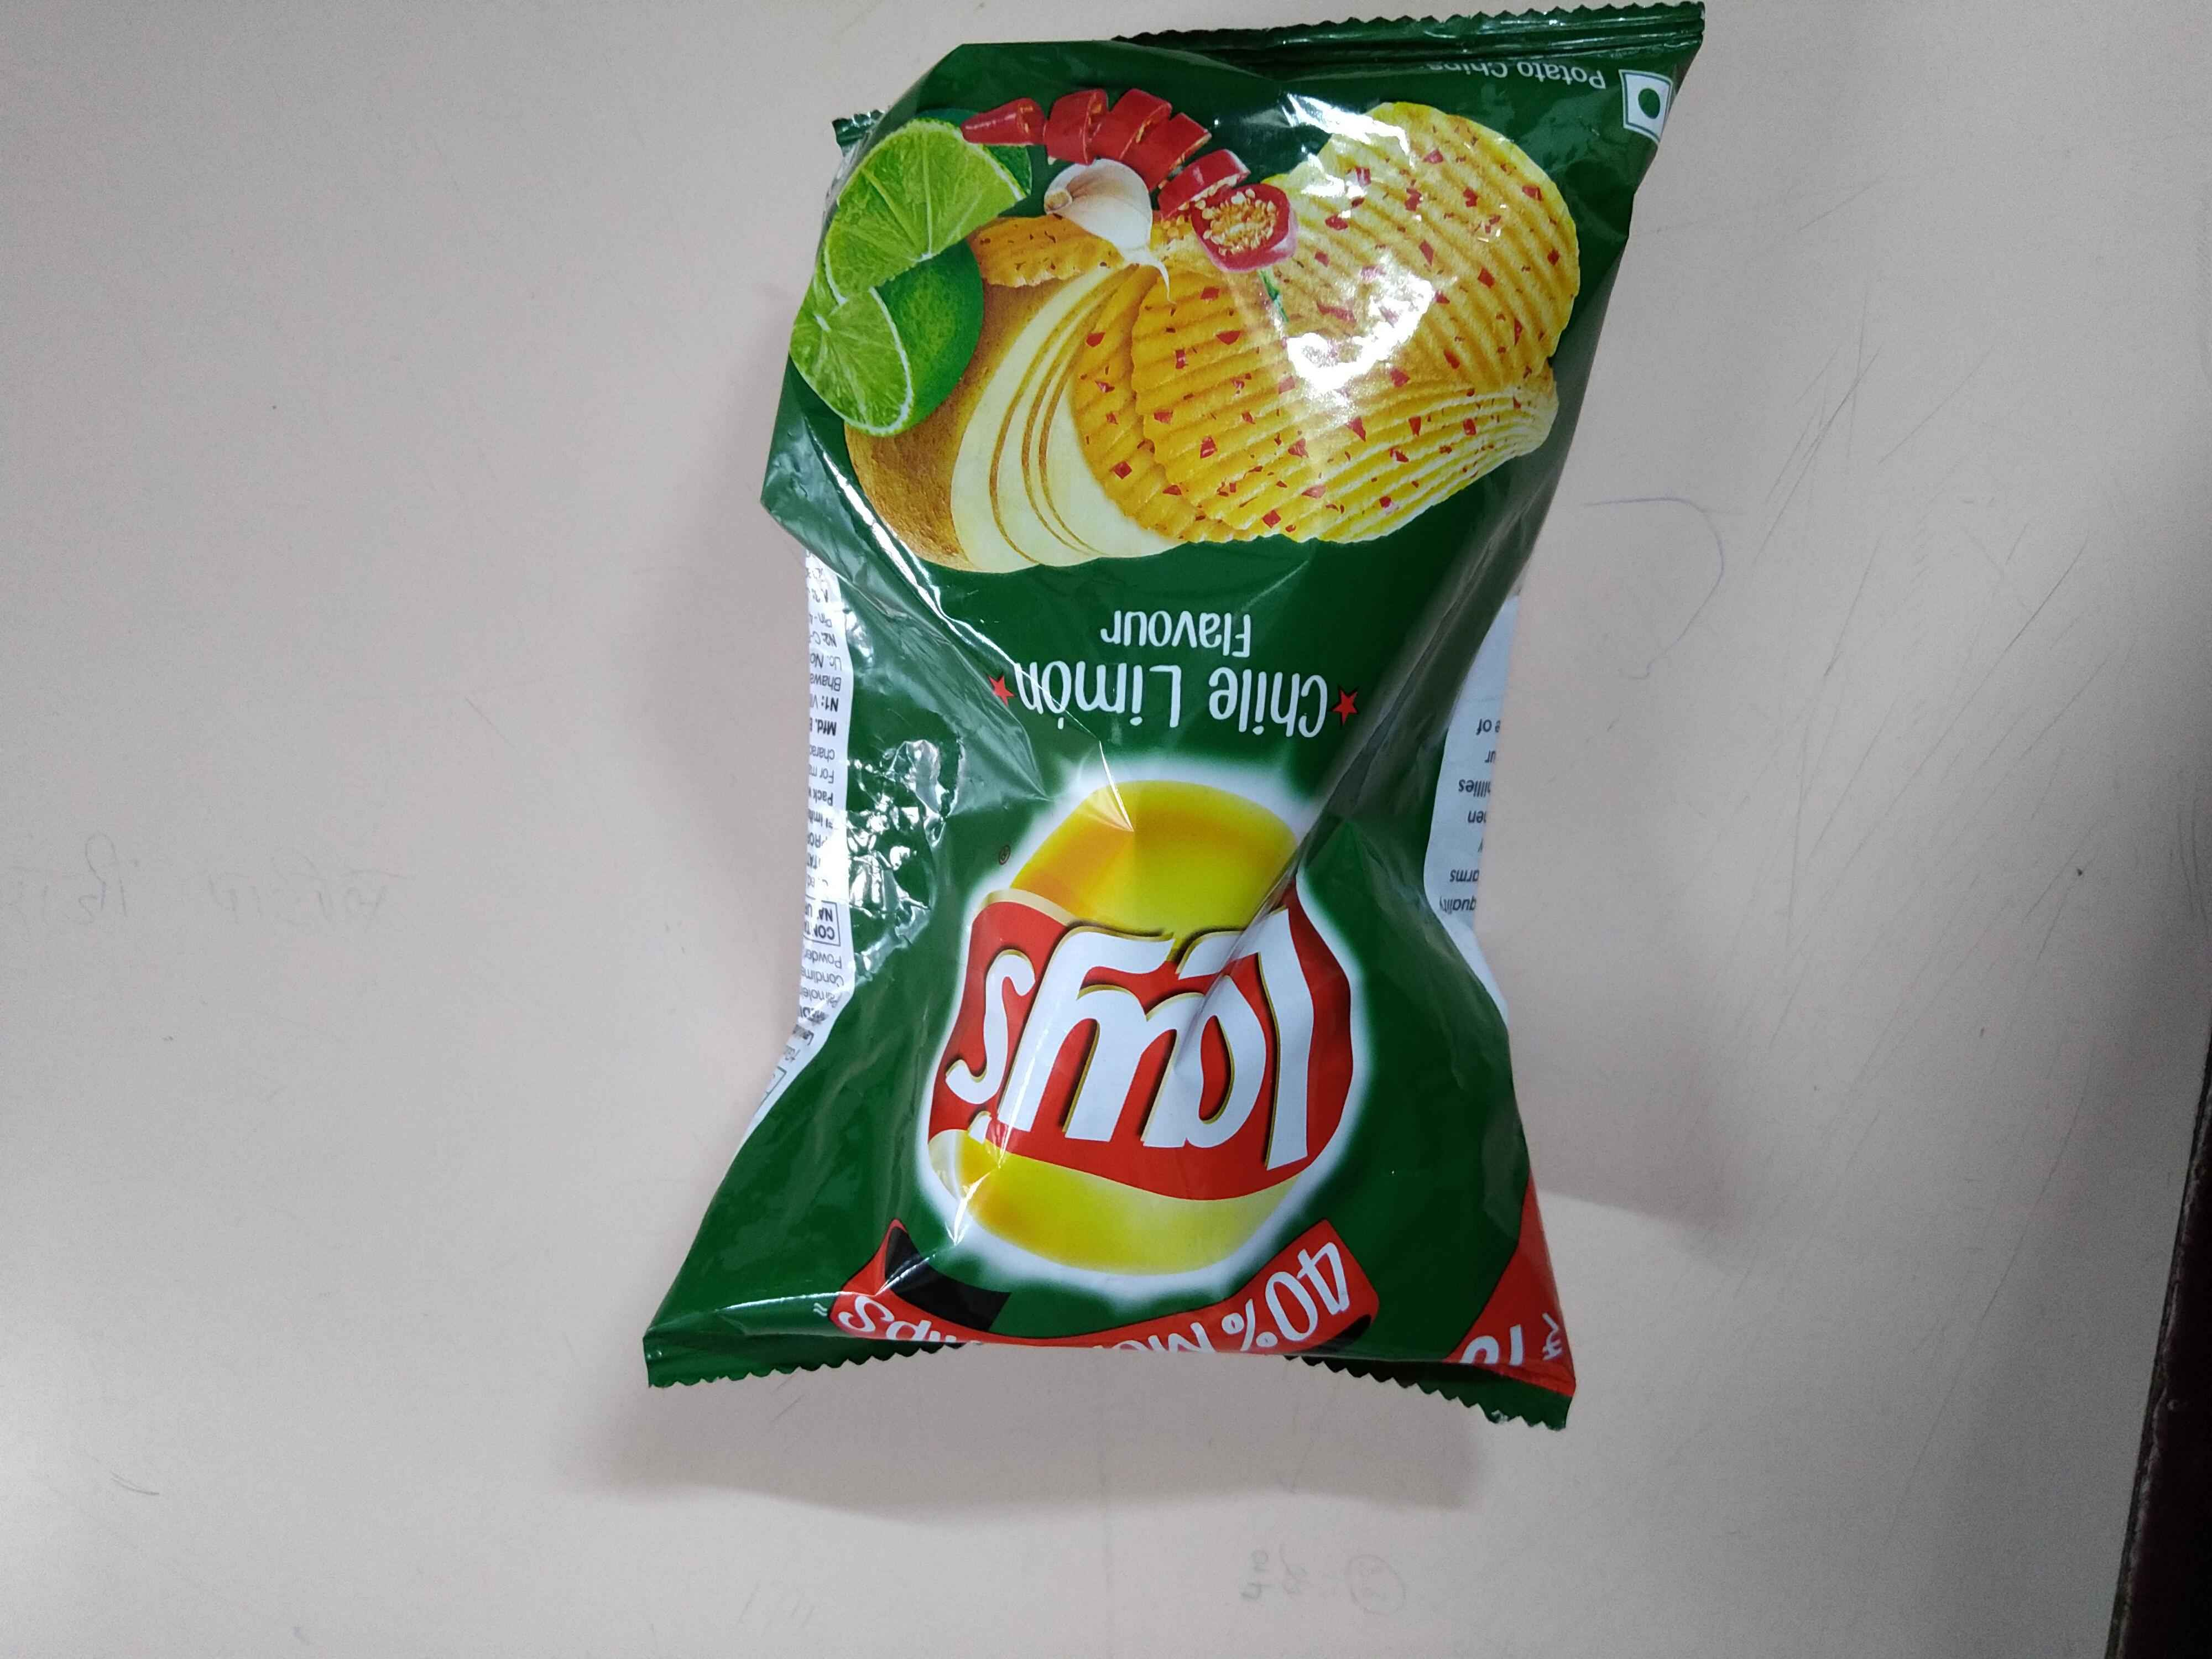Lays: (920, 767, 1388, 1269)
